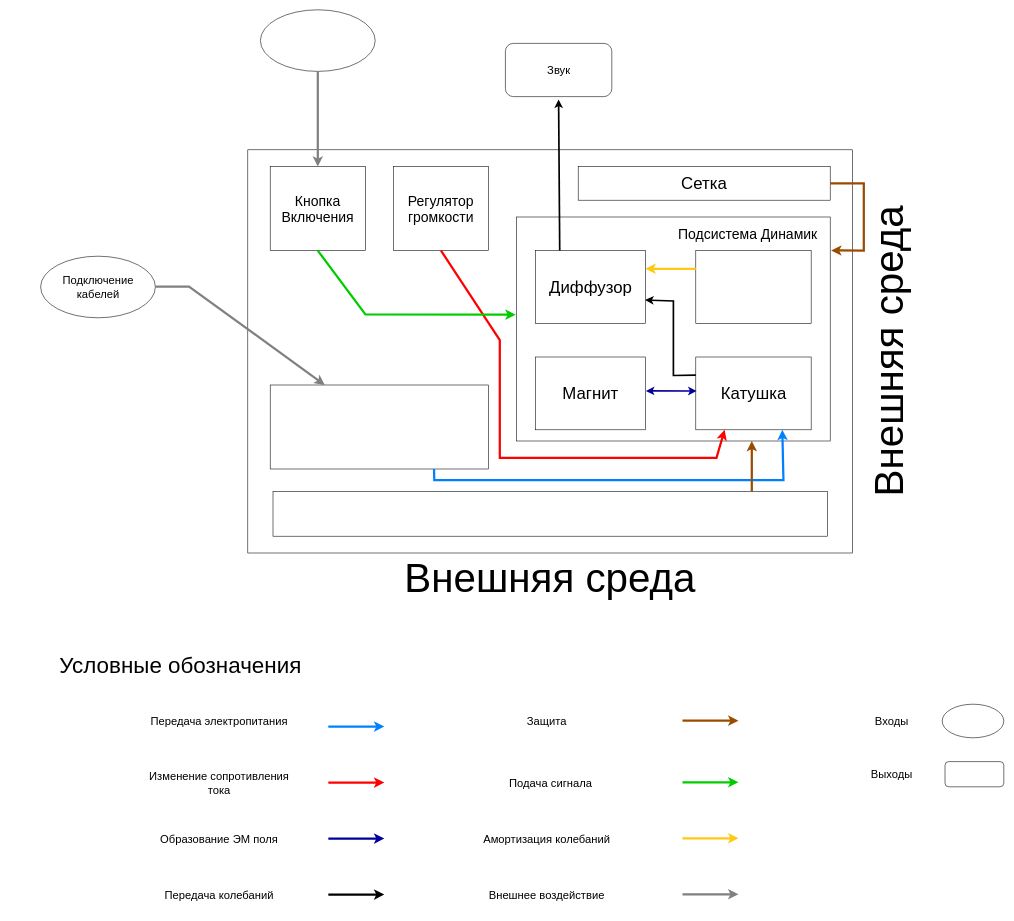
Some shapes in this 1014 by 921 pixel diagram are drawn without their labels. Here are the shapes that lost their labels. From the top down, the centre of each, then its label:
At point (317, 40): "Нажатие".
At point (753, 286): "Подвес".
At point (379, 426): "Разъёмы".
At point (549, 513): "Корпус".
